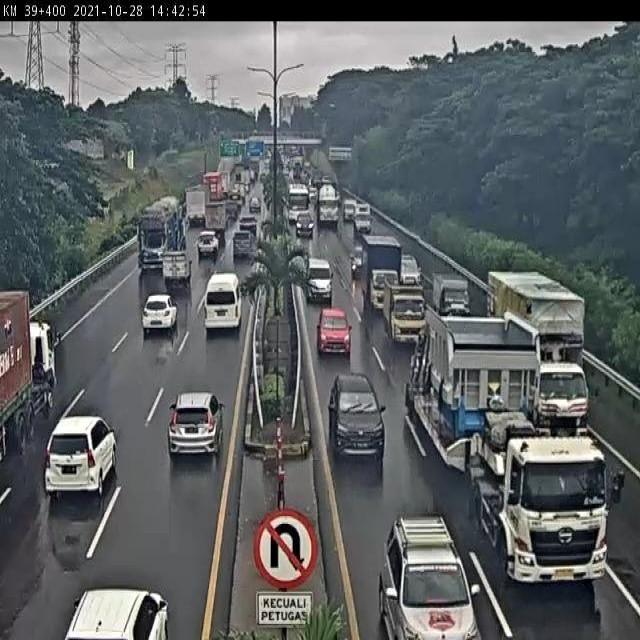big truck: (404, 307, 624, 588), (137, 195, 188, 269)
car: (42, 414, 118, 494), (327, 371, 387, 465), (166, 389, 227, 463), (203, 272, 245, 333), (316, 305, 353, 355), (303, 256, 336, 307), (142, 290, 179, 334)
small truck: (486, 268, 588, 440), (380, 275, 428, 344), (363, 232, 402, 315), (433, 271, 470, 329), (161, 247, 194, 290)
